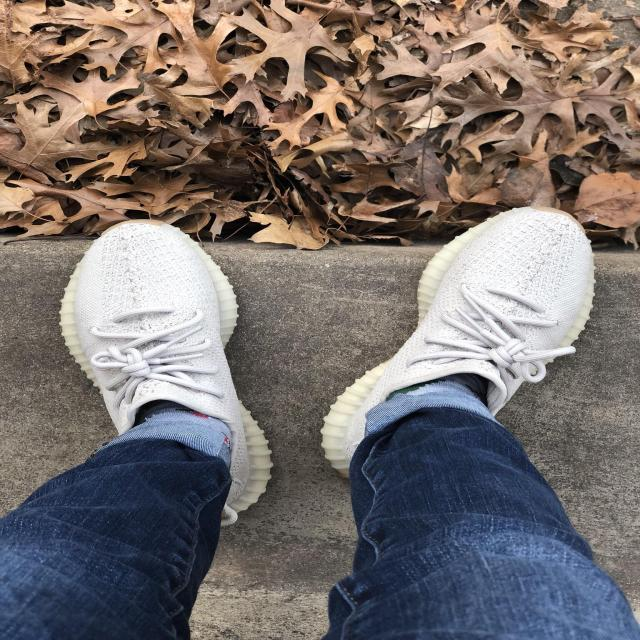shoe: (322, 208, 595, 473), (60, 221, 272, 513)
